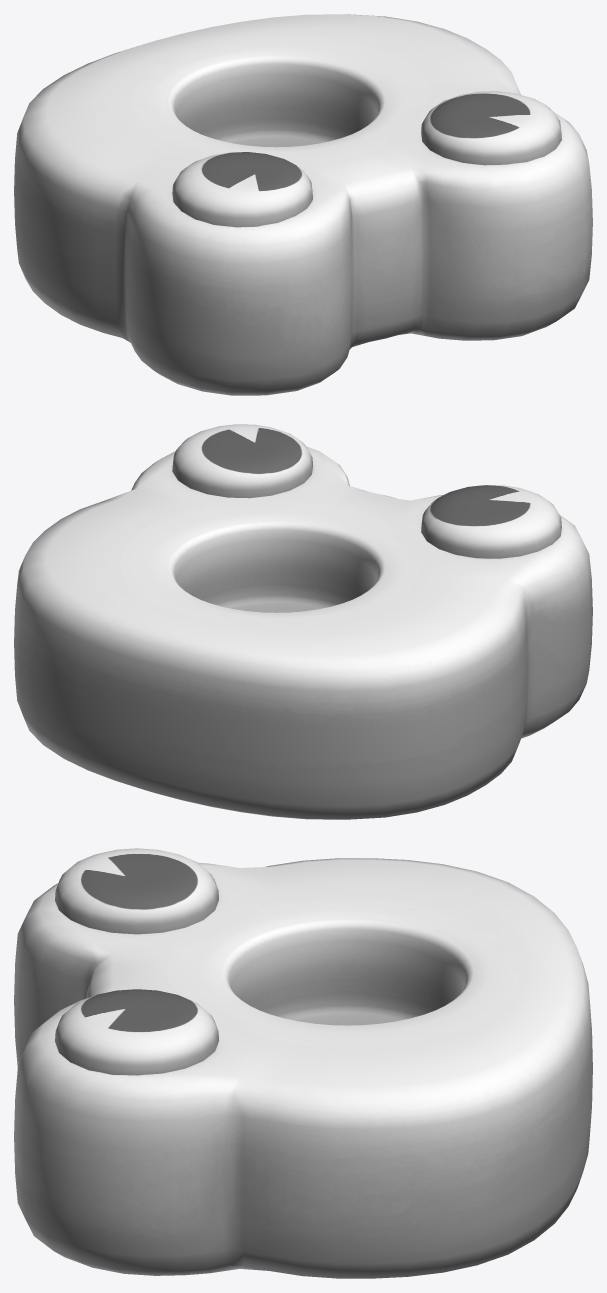
File: Pin_Model_8.fbx
The picture shows the model from 3 angles, top to bottom: view 1: azimuth 30°, elevation 25°; view 2: azimuth 150°, elevation 25°; view 3: azimuth 270°, elevation 25°; orthographic projection. The views are drawn at different scales.
Parts seen in each view (by area): view 1: Pin_Frog, polySurface10; view 2: Pin_Frog, polySurface10; view 3: Pin_Frog, polySurface10.
Part boxes in pixels (<box>): Pin_Frog: <box>14,14,592,395</box>; polySurface10: <box>172,91,561,227</box>; Pin_Frog: <box>14,446,592,819</box>; polySurface10: <box>172,424,561,558</box>; Pin_Frog: <box>14,858,592,1278</box>; polySurface10: <box>55,848,218,1075</box>.
Size of the model in its own units: 0.6177 by 0.251 by 0.5839.
Materials: 2 (2 with a texture image).
